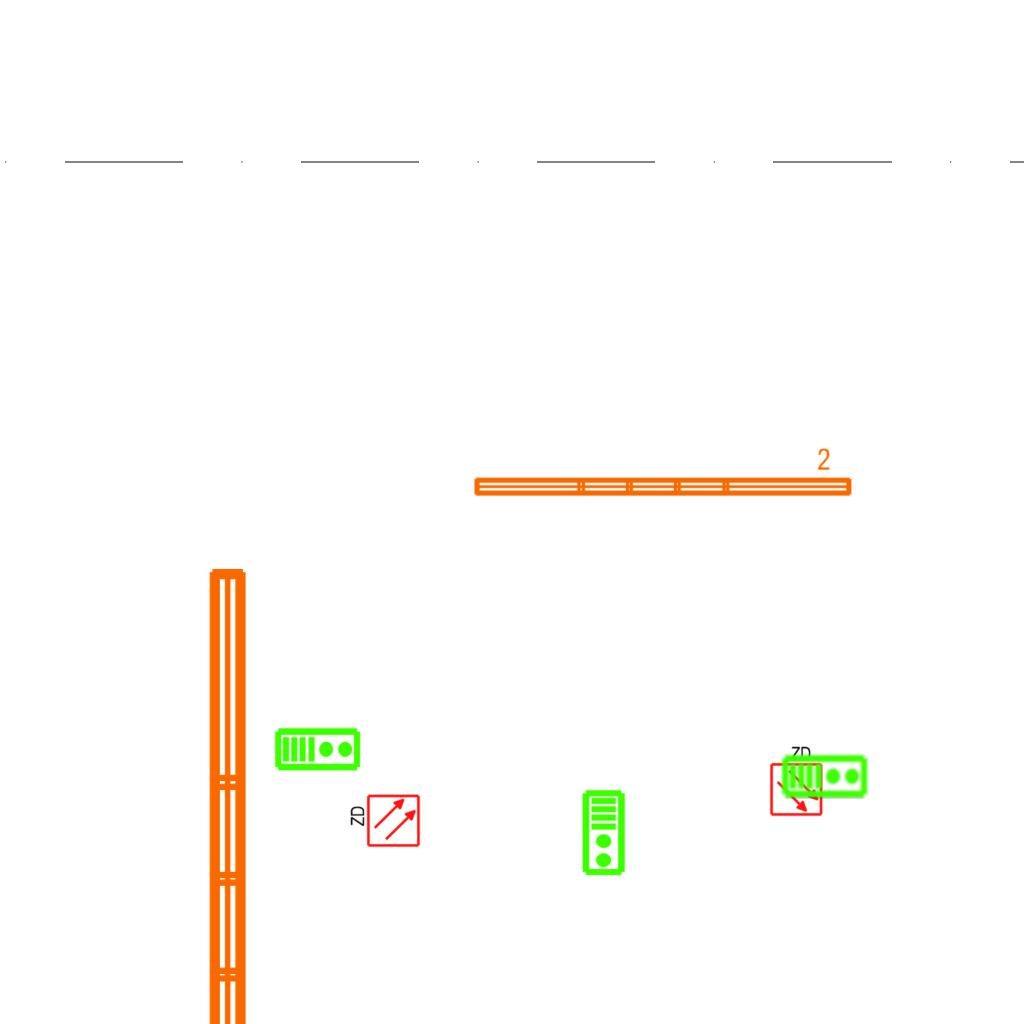Ambulanz_Pendelleuchte_LED: (197, 558, 309, 1024), (469, 446, 856, 502)
Gegensprechanlage_mit_Video: (274, 725, 362, 772), (581, 789, 628, 877), (781, 752, 869, 799)
ZD_Melder_in_Zwischendecke_mit_Revisionsoeffnung_mind_40_x_40_cm: (347, 793, 421, 850), (767, 743, 824, 817)
